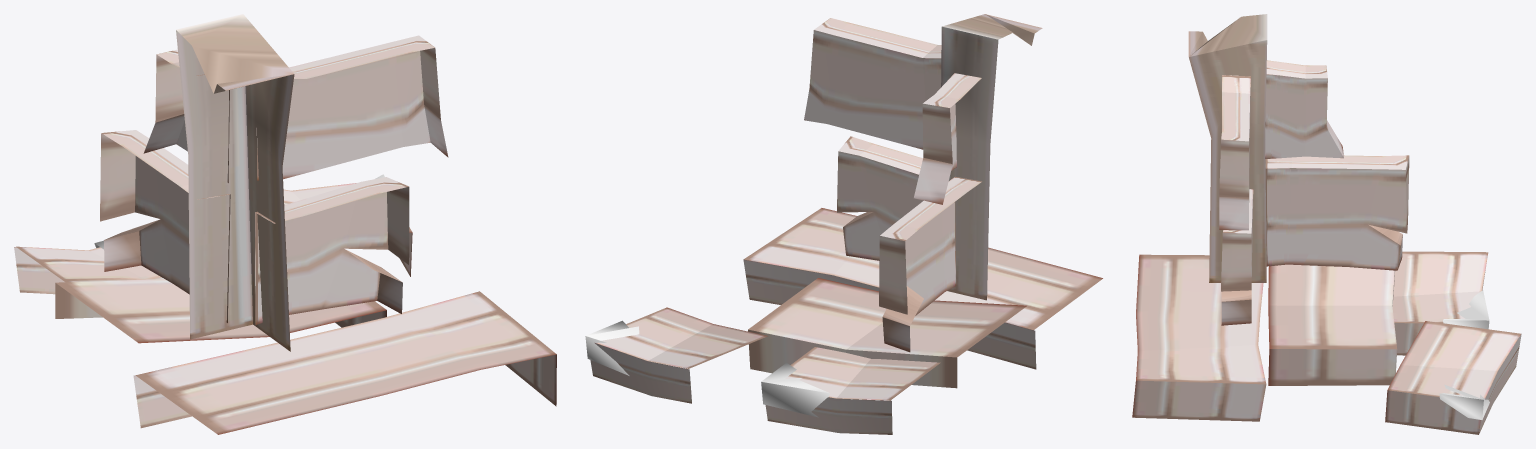
File: ruin_wood_3.fbx
3 views of the same model, side by side, from view 1: azimuth 30°, elevation 25°; view 2: azimuth 150°, elevation 25°; view 3: azimuth 270°, elevation 25° (orthographic). The views are drawn at different scales.
Parts seen in each view (by area): view 1: RuinWood3; view 2: RuinWood3; view 3: RuinWood3.
Boxes of the visible parts, bbox=[...] form: RuinWood3: bbox=[14, 14, 556, 434]; RuinWood3: bbox=[585, 14, 1102, 434]; RuinWood3: bbox=[1132, 14, 1521, 434].
Size of the model in its own units: 1.06 by 1 by 1.2.
